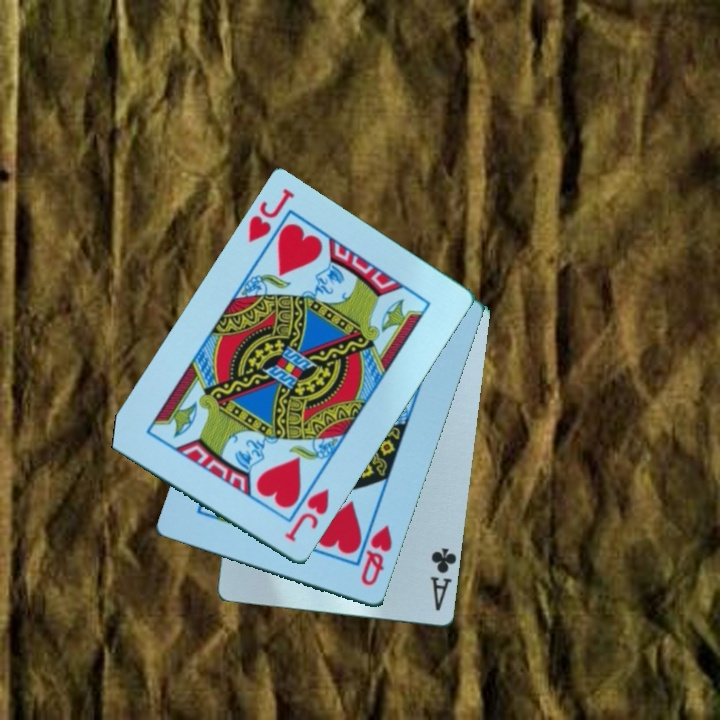Ac: (427, 544, 460, 614)
Jh: (244, 185, 298, 247), (281, 486, 333, 545)
Qh: (357, 522, 396, 589)
